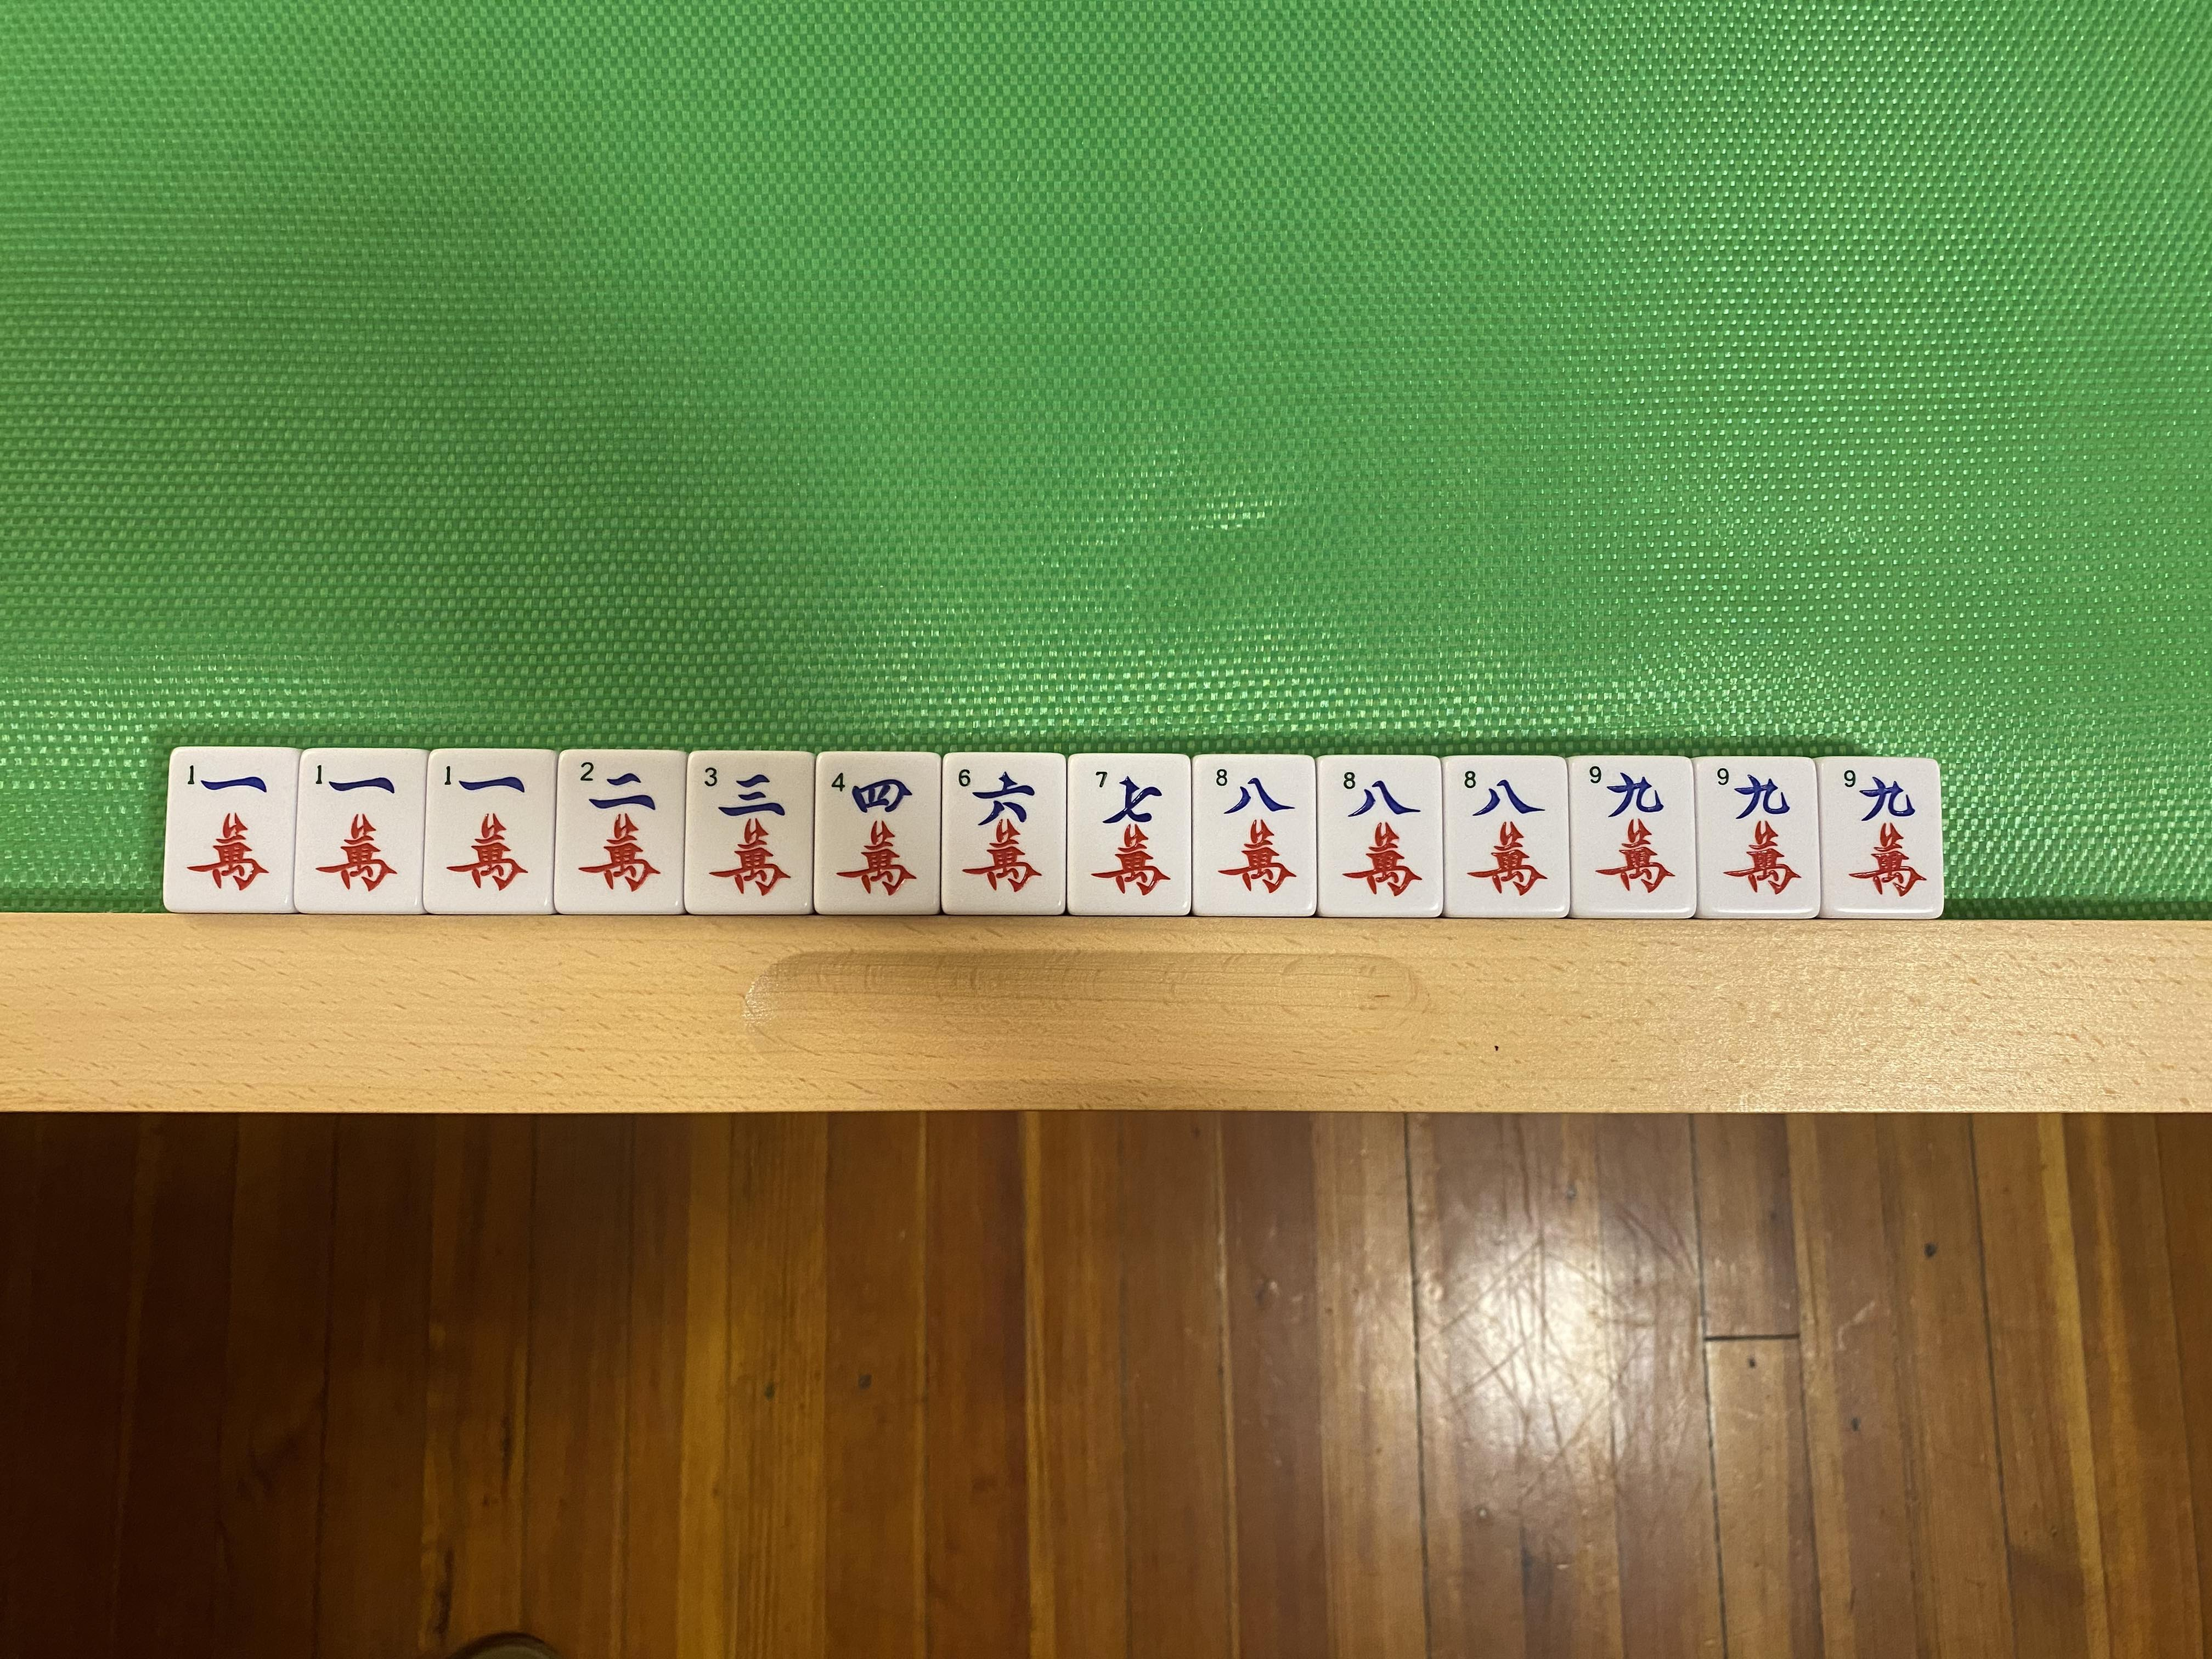character-eight: (1195, 760, 1315, 915), (1322, 760, 1437, 913), (1451, 760, 1562, 913)
character-four: (819, 755, 939, 906)
character-nine: (1576, 760, 1688, 911), (1707, 763, 1813, 913), (1831, 763, 1933, 911)
character-one: (172, 746, 284, 908), (434, 755, 543, 910), (308, 758, 415, 904)
character-seven: (1071, 760, 1184, 910)
character-six: (948, 758, 1059, 911)
character-three: (688, 751, 803, 906)
character-two: (564, 756, 671, 906)
